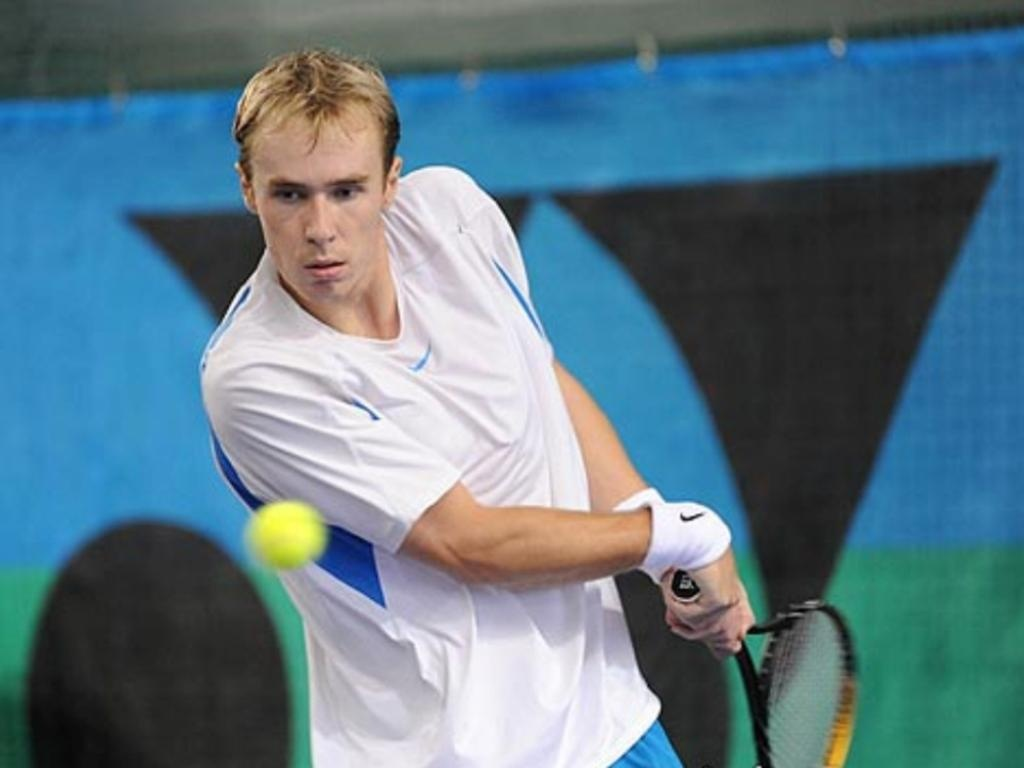face: (248, 114, 380, 304)
